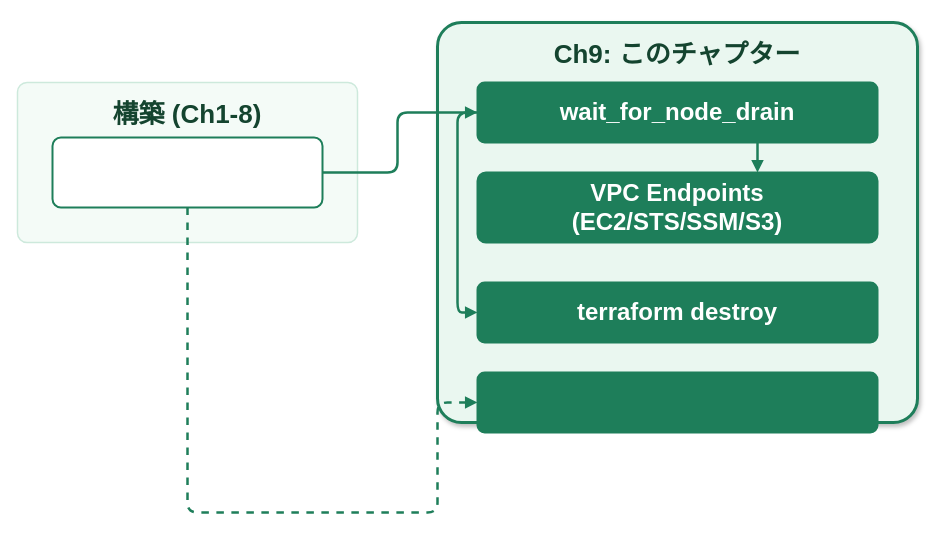
The diagram is 943 pixels wide and 539 high, and some of its shapes have lost their labels. Each missing label, with the centre of its shape:
CloudFront → ALB デモ (opt-in): the point at 677,402
VPC / EKS / Karpenter / Pools / Storage: the point at 187,172
